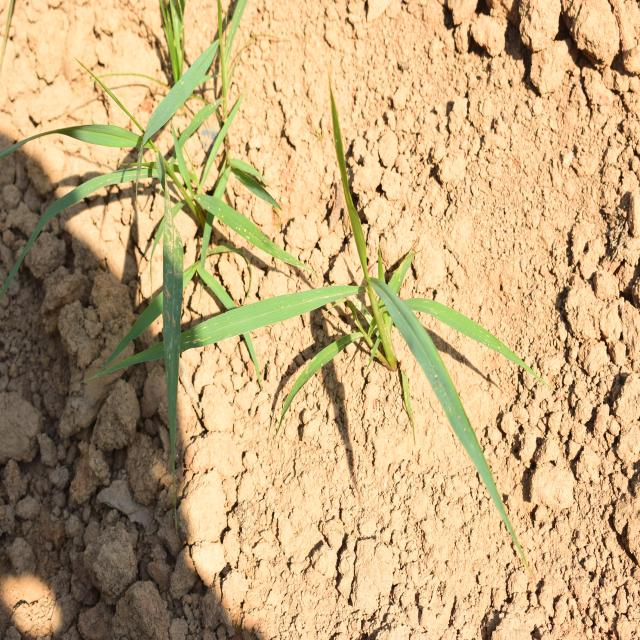green_foxtail: (251, 184, 493, 458), (50, 83, 279, 360)
